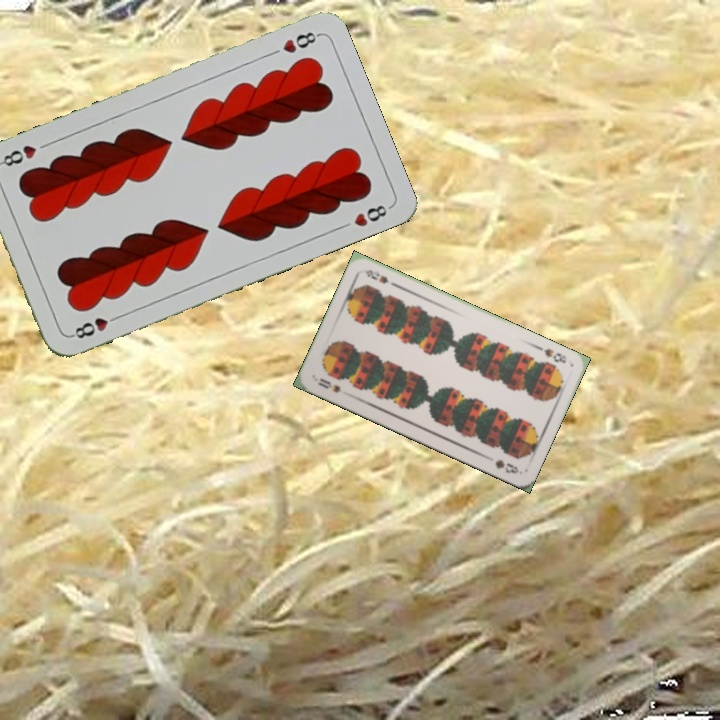H8: (67, 310, 123, 342), (278, 27, 322, 56)
S8: (533, 342, 569, 366), (314, 374, 344, 396)
